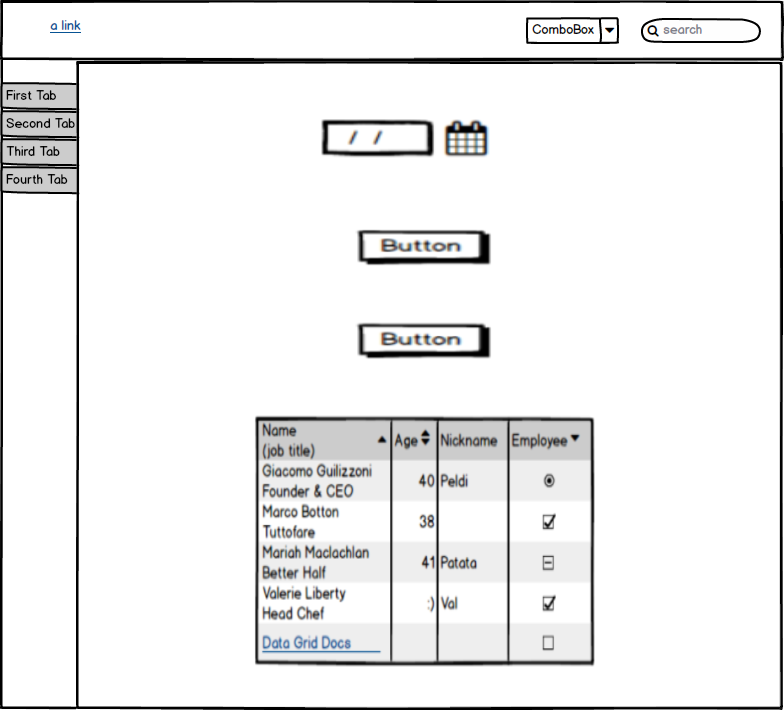button: (353, 319, 493, 364), (352, 224, 496, 267)
date_picker: (312, 113, 496, 167)
navlink: (42, 13, 91, 40)
search: (638, 14, 764, 47)
select_box: (518, 13, 624, 47)
sidebar: (2, 72, 85, 203)
table: (246, 414, 602, 668)
